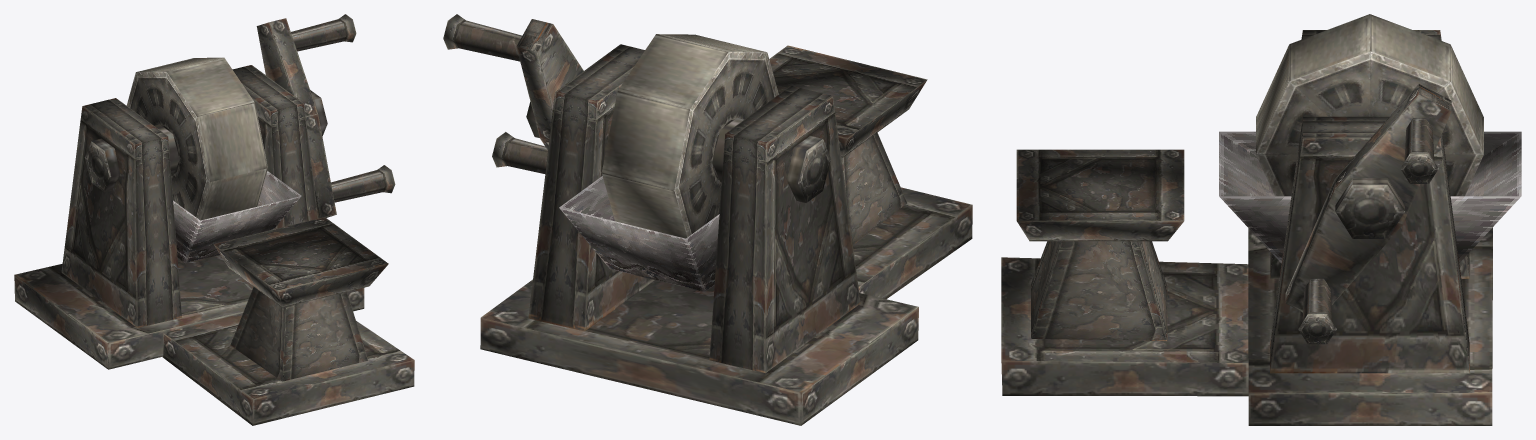
File: darkirongrindingwheel.obj
3 views of the same model, side by side, from view 1: azimuth 30°, elevation 25°; view 2: azimuth 150°, elevation 25°; view 3: azimuth 270°, elevation 25° (orthographic). The views are drawn at different scales.
Parts seen in each view (by area): view 1: Geoset0, Geoset1; view 2: Geoset0, Geoset1; view 3: Geoset0, Geoset1.
Boxes of the visible parts, box(x1,y1,x2,y2) form: Geoset0: box(14, 14, 414, 425); Geoset1: box(173, 171, 301, 263); Geoset0: box(443, 14, 972, 425); Geoset1: box(559, 176, 719, 291); Geoset0: box(1001, 14, 1492, 425); Geoset1: box(1219, 131, 1521, 263).
Size of the model in its own units: 1.5 by 1.15 by 1.68.
2 materials, 2 textured.
